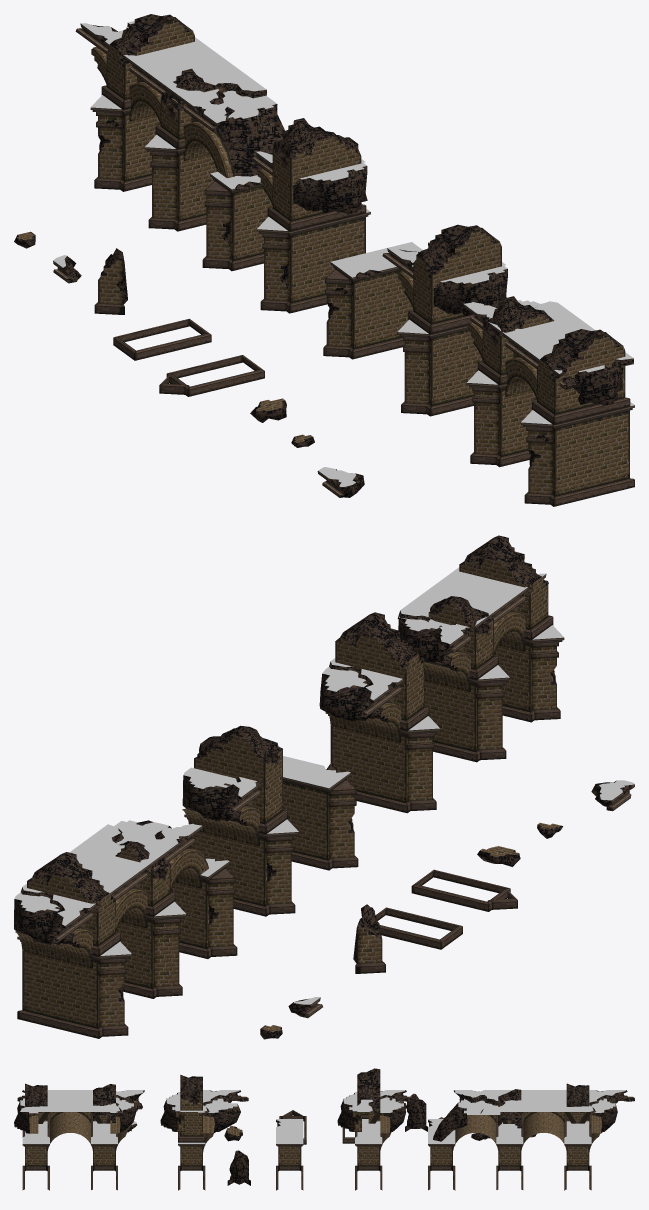
Rendered from EnvMdrMD_Sea_Aqueduct_A_Bridge_Debris_A.FBX.
The picture shows the model from 3 angles, top to bottom: view 1: azimuth 30°, elevation 25°; view 2: azimuth 150°, elevation 25°; view 3: azimuth 270°, elevation 25°; orthographic projection. The views are drawn at different scales.
Visible parts, largest first — view 1: EnvMdrMD_Sea_Aqueduct_A_Bridge_Debris_A, EnvMdrMD_Sea_Aqueduct_A_Bridge_Debris_D, EnvMdrMD_Sea_Aqueduct_A_Bridge_Debris_E, EnvMdrMD_Sea_Aqueduct_A_Bridge_Debris_B, EnvMdrMD_Sea_Aqueduct_A_Bridge_Debris_C, EnvMdrMD_Sea_Aqueduct_A_Base_A, EnvMdrMD_Sea_Aqueduct_A_Base_B, EnvMdrMD_Sea_Aqueduct_A_Bridge_Debris_Pillar_A, EnvMdrMD_Sea_Aqueduct_A_Bridge_Debris_Parts_B; view 2: EnvMdrMD_Sea_Aqueduct_A_Bridge_Debris_A, EnvMdrMD_Sea_Aqueduct_A_Bridge_Debris_D, EnvMdrMD_Sea_Aqueduct_A_Bridge_Debris_B, EnvMdrMD_Sea_Aqueduct_A_Bridge_Debris_E, EnvMdrMD_Sea_Aqueduct_A_Bridge_Debris_C, EnvMdrMD_Sea_Aqueduct_A_Base_A, EnvMdrMD_Sea_Aqueduct_A_Bridge_Debris_Pillar_A, EnvMdrMD_Sea_Aqueduct_A_Base_B, EnvMdrMD_Sea_Aqueduct_A_Bridge_Debris_Parts_B; view 3: EnvMdrMD_Sea_Aqueduct_A_Bridge_Debris_A, EnvMdrMD_Sea_Aqueduct_A_Bridge_Debris_D, EnvMdrMD_Sea_Aqueduct_A_Bridge_Debris_B, EnvMdrMD_Sea_Aqueduct_A_Bridge_Debris_E, EnvMdrMD_Sea_Aqueduct_A_Bridge_Debris_C, EnvMdrMD_Sea_Aqueduct_A_Bridge_Debris_Pillar_A, EnvMdrMD_Sea_Aqueduct_A_Bridge_Debris_Pillar_B, EnvMdrMD_Sea_Aqueduct_A_Base_A, EnvMdrMD_Sea_Aqueduct_A_Bridge_Debris_Parts_E.
Part boxes in pixels (x1,y1,x2,y2): EnvMdrMD_Sea_Aqueduct_A_Bridge_Debris_A: (75,14,284,271); EnvMdrMD_Sea_Aqueduct_A_Bridge_Debris_D: (463,296,634,506); EnvMdrMD_Sea_Aqueduct_A_Bridge_Debris_E: (251,118,370,313); EnvMdrMD_Sea_Aqueduct_A_Bridge_Debris_B: (382,224,507,416); EnvMdrMD_Sea_Aqueduct_A_Bridge_Debris_C: (323,242,422,359); EnvMdrMD_Sea_Aqueduct_A_Base_A: (159,355,264,396); EnvMdrMD_Sea_Aqueduct_A_Base_B: (113,318,211,360); EnvMdrMD_Sea_Aqueduct_A_Bridge_Debris_Pillar_A: (94,248,127,314); EnvMdrMD_Sea_Aqueduct_A_Bridge_Debris_Parts_B: (317,467,364,497); EnvMdrMD_Sea_Aqueduct_A_Bridge_Debris_A: (14,820,237,1038); EnvMdrMD_Sea_Aqueduct_A_Bridge_Debris_D: (397,535,564,762); EnvMdrMD_Sea_Aqueduct_A_Bridge_Debris_B: (319,612,440,813); EnvMdrMD_Sea_Aqueduct_A_Bridge_Debris_E: (182,725,298,916); EnvMdrMD_Sea_Aqueduct_A_Bridge_Debris_C: (283,756,358,870); EnvMdrMD_Sea_Aqueduct_A_Base_A: (411,869,517,911); EnvMdrMD_Sea_Aqueduct_A_Bridge_Debris_Pillar_A: (353,904,385,973); EnvMdrMD_Sea_Aqueduct_A_Base_B: (375,907,462,949); EnvMdrMD_Sea_Aqueduct_A_Bridge_Debris_Parts_B: (591,780,634,811); EnvMdrMD_Sea_Aqueduct_A_Bridge_Debris_A: (428,1083,634,1190); EnvMdrMD_Sea_Aqueduct_A_Bridge_Debris_D: (14,1083,144,1190); EnvMdrMD_Sea_Aqueduct_A_Bridge_Debris_B: (160,1075,248,1190); EnvMdrMD_Sea_Aqueduct_A_Bridge_Debris_E: (337,1068,414,1190); EnvMdrMD_Sea_Aqueduct_A_Bridge_Debris_C: (276,1117,303,1190); EnvMdrMD_Sea_Aqueduct_A_Bridge_Debris_Pillar_A: (405,1093,427,1131); EnvMdrMD_Sea_Aqueduct_A_Bridge_Debris_Pillar_B: (227,1150,250,1185); EnvMdrMD_Sea_Aqueduct_A_Base_A: (279,1110,306,1144); EnvMdrMD_Sea_Aqueduct_A_Bridge_Debris_Parts_E: (224,1126,242,1141).
Size of the model in its own units: 1667 by 1119 by 5458.
